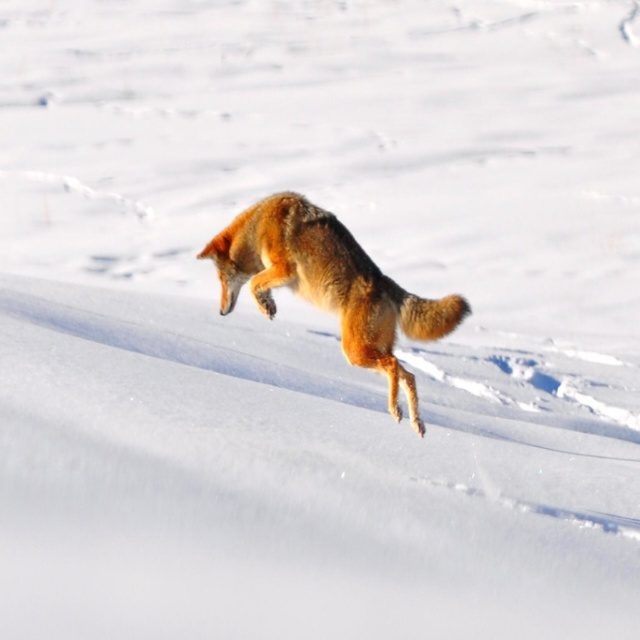Fox: (195, 190, 472, 439)
